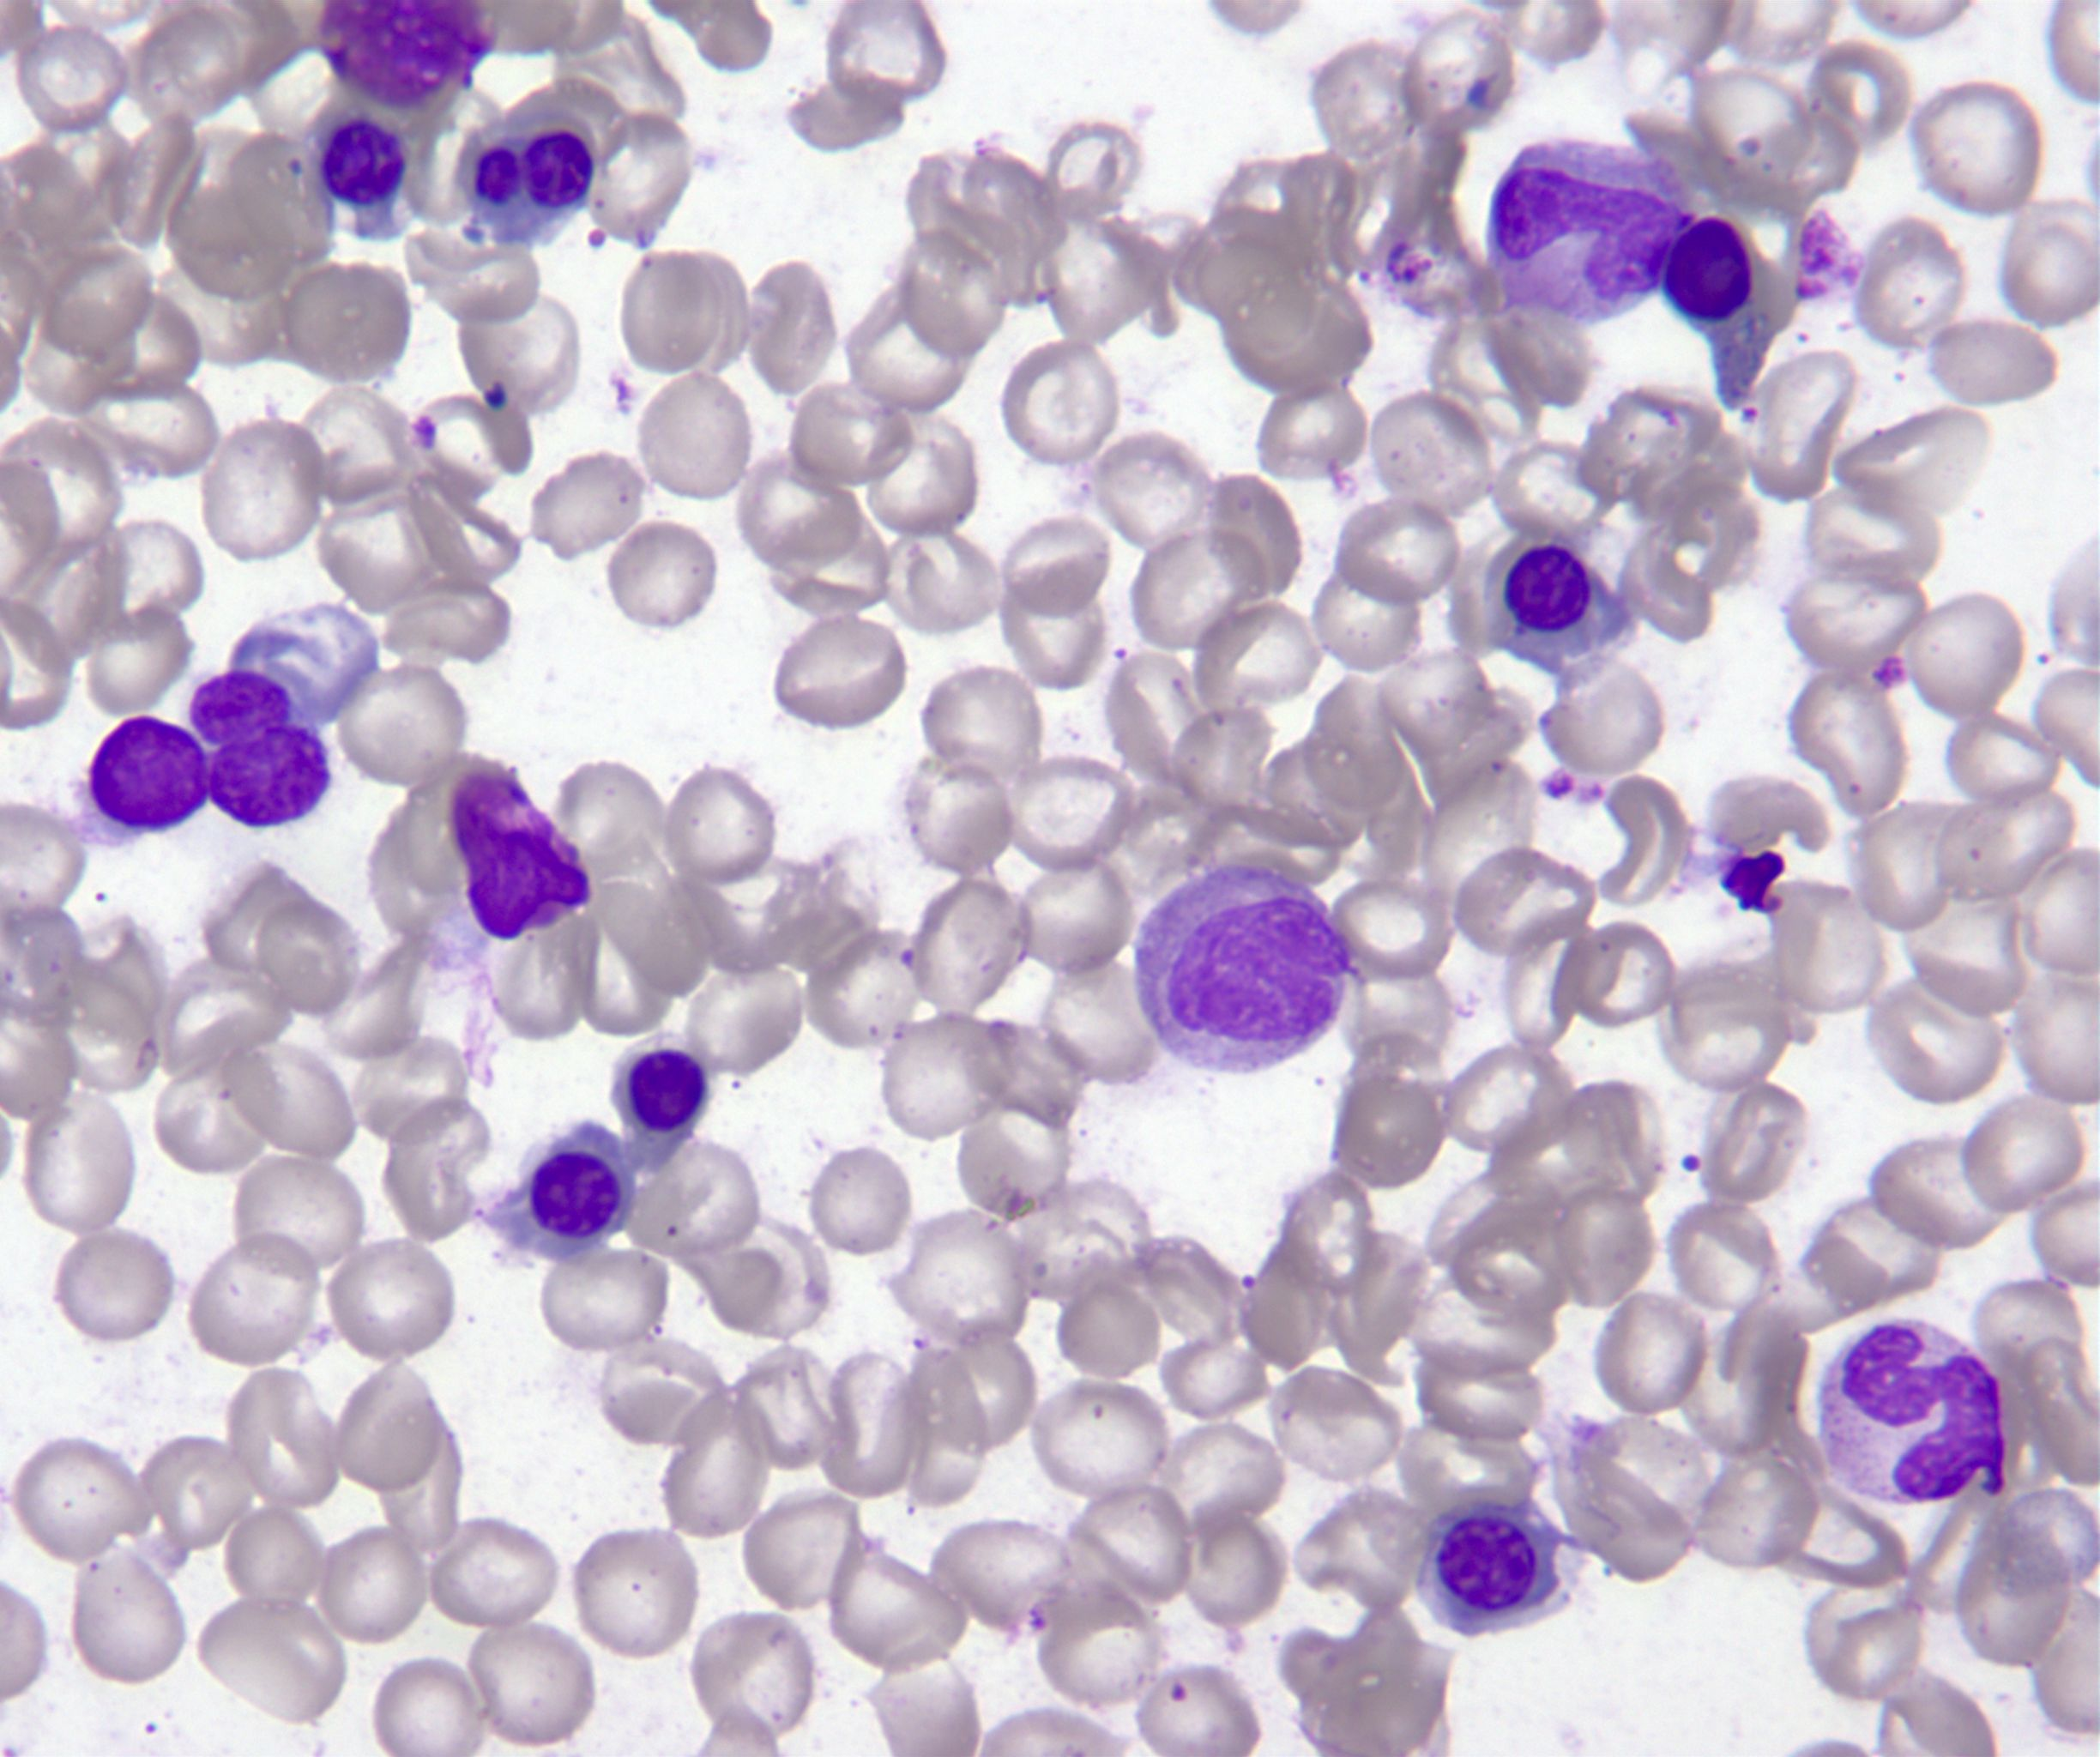24: (1488, 530, 1633, 698), (1664, 218, 1774, 414), (481, 1120, 635, 1260), (1418, 1499, 1572, 1638), (459, 112, 597, 250), (298, 94, 420, 239), (610, 1029, 708, 1178), (192, 660, 319, 747)
32: (63, 715, 209, 850)
42: (1135, 867, 1348, 1073)
5: (1488, 141, 1694, 325), (1821, 1319, 2006, 1504)
x: (452, 773, 593, 940), (316, 0, 497, 115), (209, 722, 331, 827)
